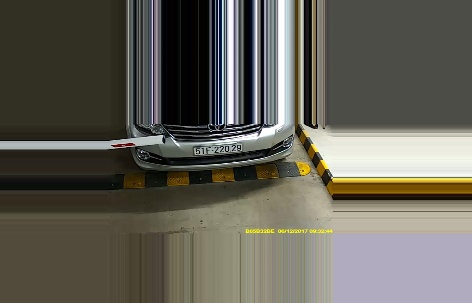plate: (191, 142, 242, 154)
